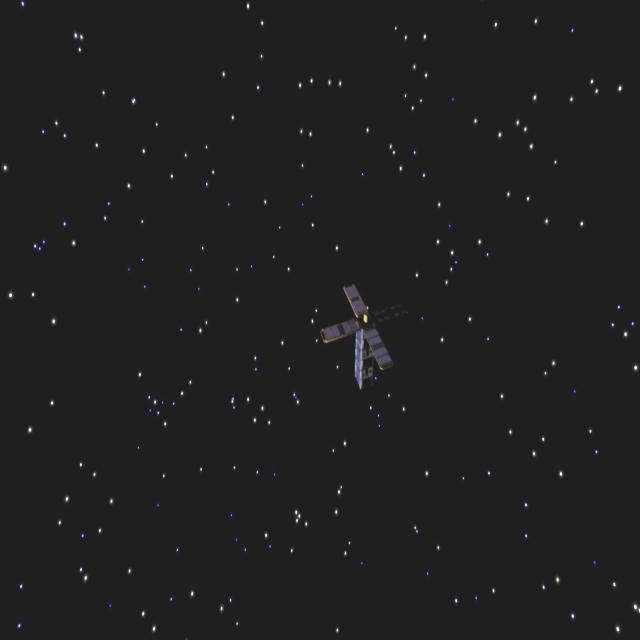medium_debris: (312, 281, 393, 391)
